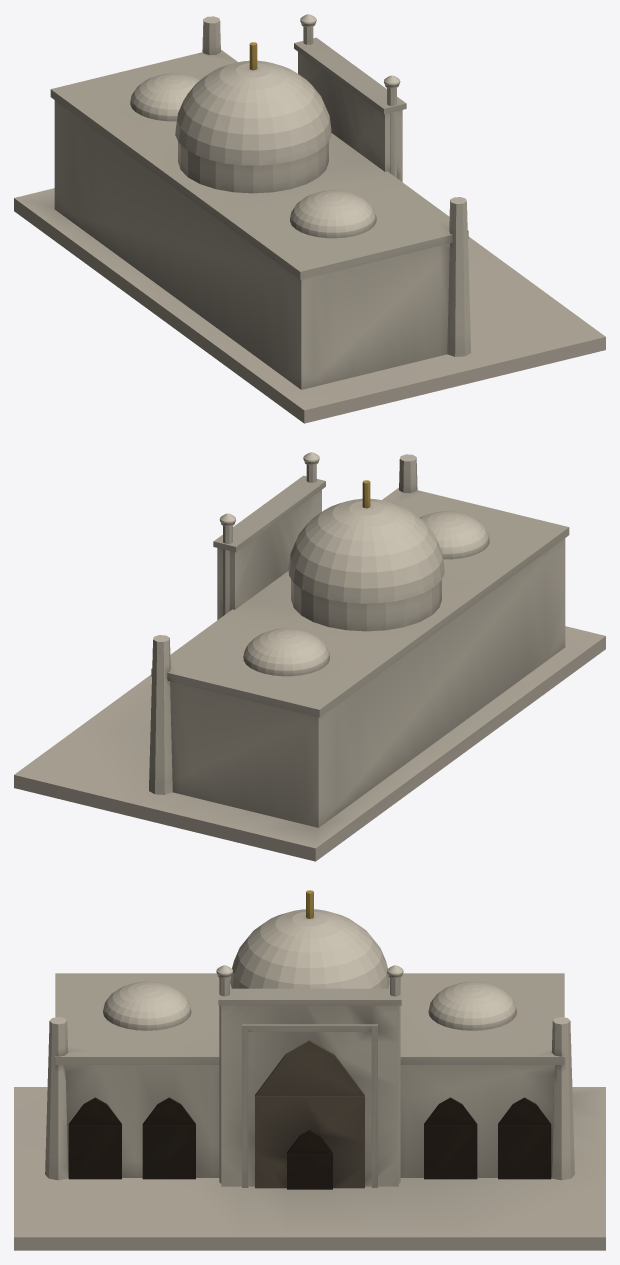
File: humayun-mosque.glb
3 renders of one model, top to bottom at view 1: azimuth 30°, elevation 25°; view 2: azimuth 150°, elevation 25°; view 3: azimuth 270°, elevation 25°, orthographic.
Visible parts, largest first — view 1: p0_hall, p2_dome, p1_arches; view 2: p0_hall, p2_dome, p1_arches; view 3: p0_hall, p1_arches, p2_dome.
Boxes of the visible parts, x1,y1,x2,y2 form: p0_hall: (14, 49, 605, 423); p2_dome: (130, 42, 376, 238); p1_arches: (202, 14, 470, 356); p0_hall: (14, 487, 605, 861); p2_dome: (243, 480, 489, 676); p1_arches: (149, 452, 417, 794); p0_hall: (14, 973, 605, 1250); p1_arches: (45, 965, 574, 1189); p2_dome: (103, 890, 516, 1030).
Bounding box in the file's own units: 24 × 19.05 × 40.
